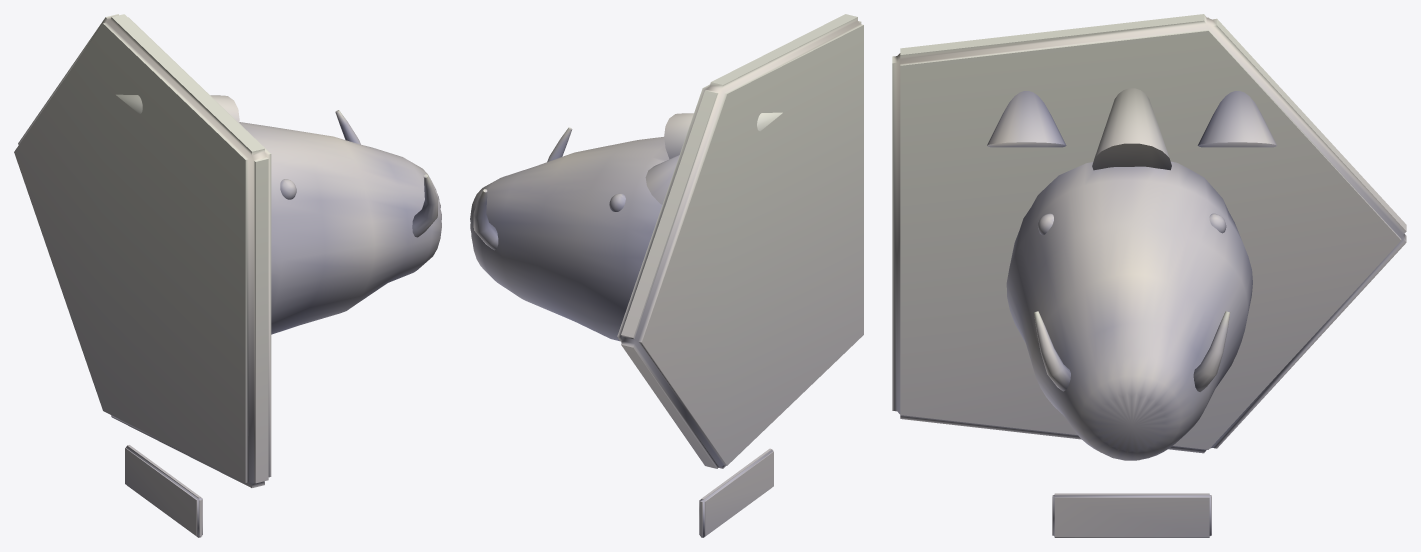
The model's file is trophy-boar.glb.
The picture shows the model from 3 angles, left to right: view 1: azimuth 30°, elevation 25°; view 2: azimuth 150°, elevation 25°; view 3: azimuth 270°, elevation 25°; orthographic projection. The views are drawn at different scales.
Visible parts, largest first — view 1: body; view 2: body; view 3: body.
Part boxes in pixels (x1,y1,x2,y2): body: (14, 14, 441, 537); body: (470, 14, 863, 537); body: (892, 14, 1406, 537).
Size of the model in its own units: 0.4938 by 0.7088 by 0.6436.
